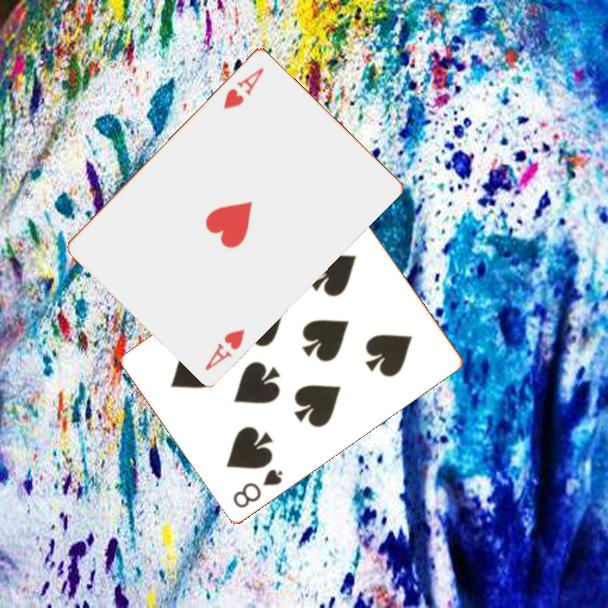h01: (220, 63, 267, 112), (201, 325, 248, 373)
s08: (229, 465, 286, 511)
